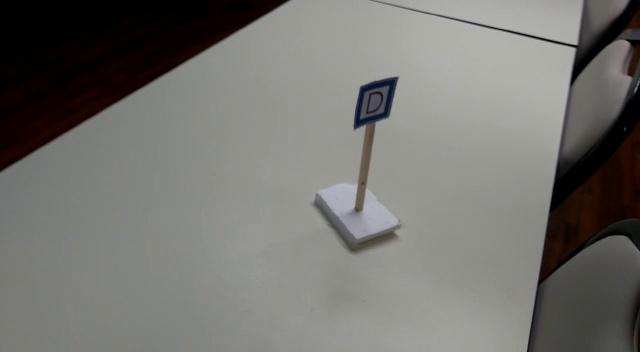durak: (354, 76, 399, 128)
